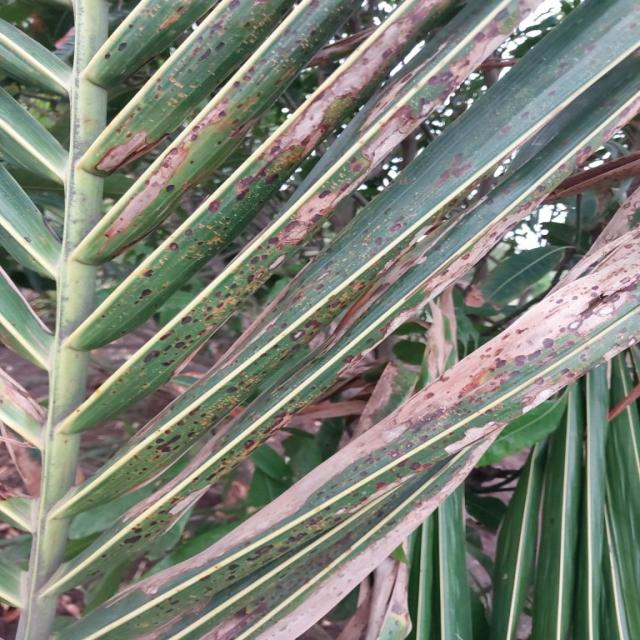gray leaf spot: (51, 98, 640, 619), (58, 6, 553, 430), (127, 235, 635, 640)
